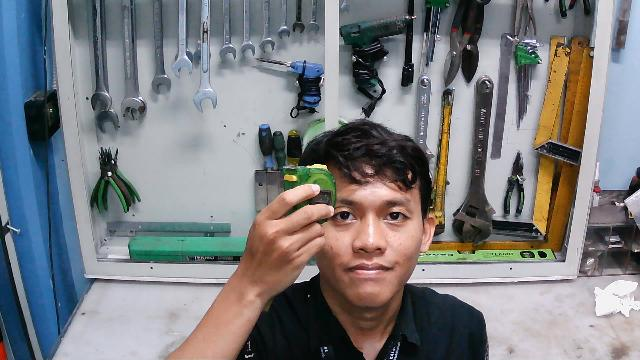meteran: (279, 161, 338, 234)
